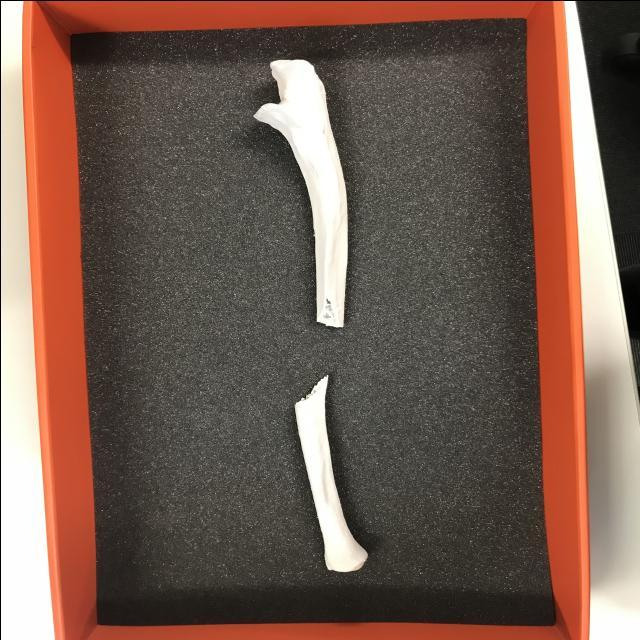bone: (250, 51, 354, 327), (276, 370, 369, 580)
